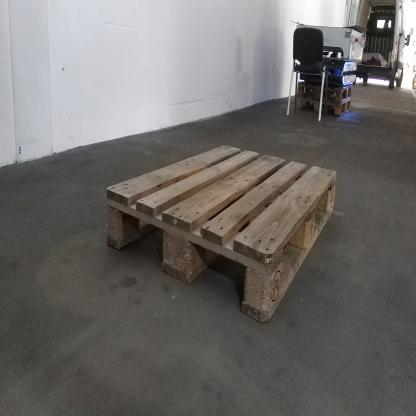BoxFace: (103, 139, 340, 330)
